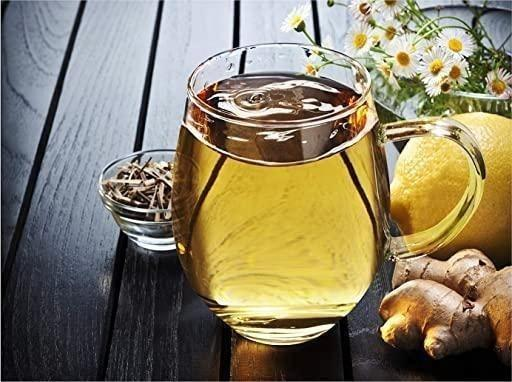glass-mug: (165, 37, 490, 350)
